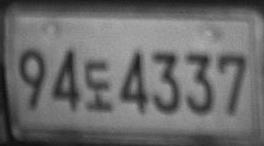3: (185, 54, 213, 114), (152, 52, 179, 113)
4: (118, 50, 147, 114), (51, 50, 80, 113)
7: (217, 55, 246, 113)
9: (18, 49, 46, 109)
도: (84, 61, 112, 111)
